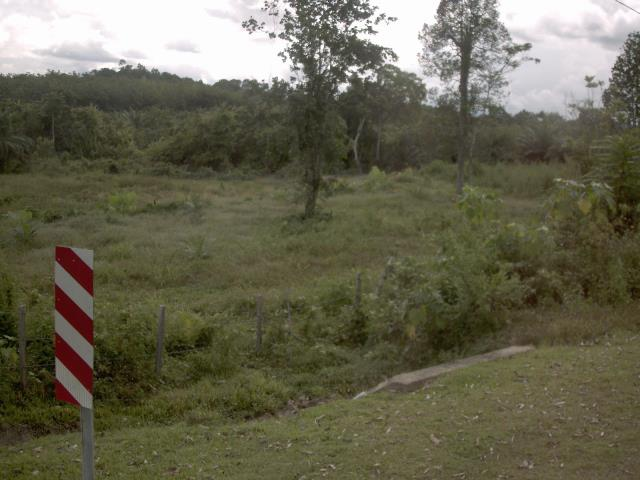traffic_sign: (43, 238, 103, 419)
